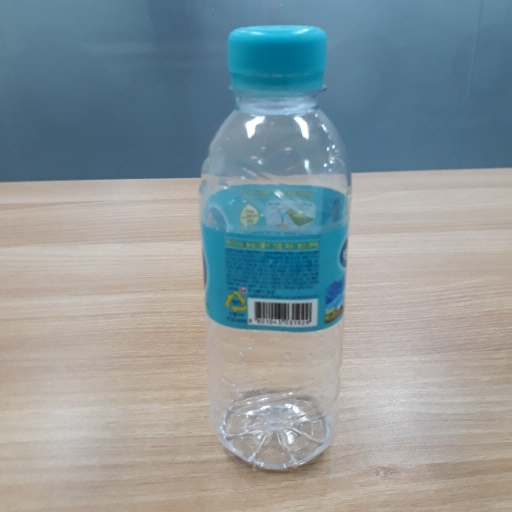Plastic_0: (197, 24, 356, 474)
